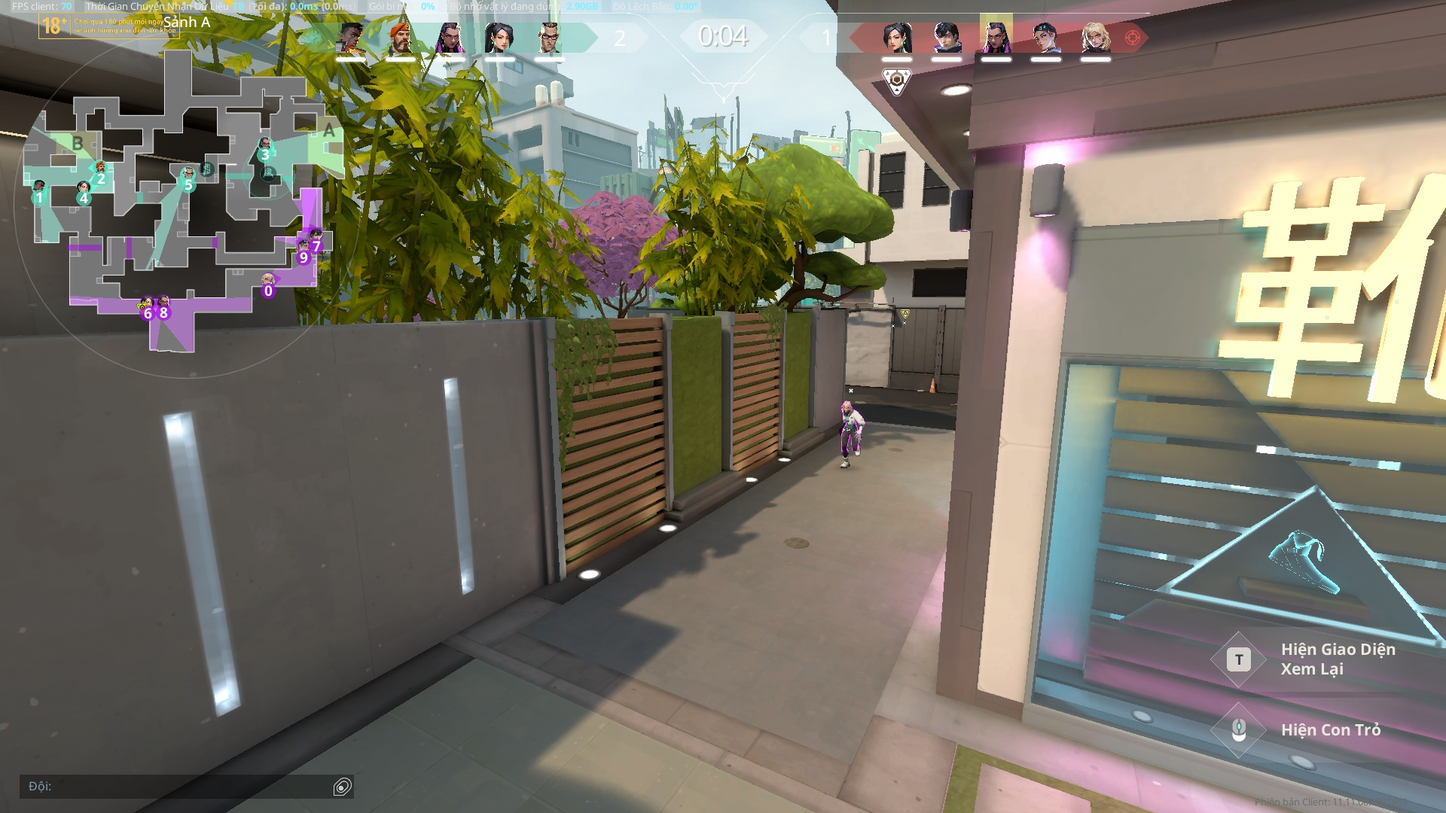body: (840, 409, 858, 428)
head: (842, 400, 851, 412)
